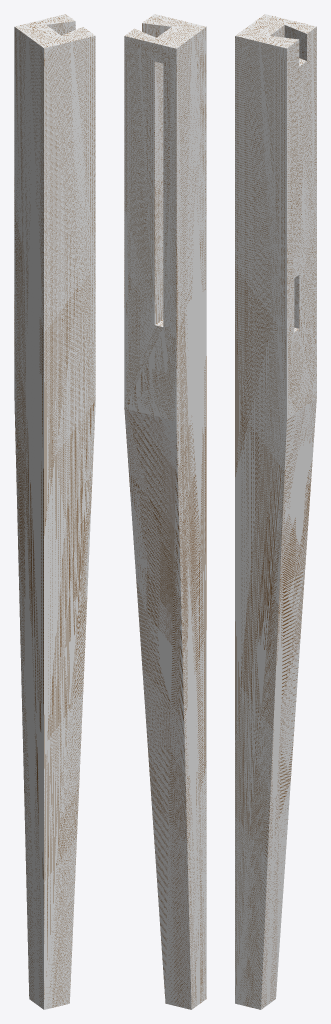
The model's file is original-14.obj.
The picture shows the model from 3 angles, left to right: view 1: azimuth 30°, elevation 25°; view 2: azimuth 150°, elevation 25°; view 3: azimuth 330°, elevation 25°; orthographic projection.
Parts seen in each view (by area): view 1: Left_Front_Leg/Front_Leg/mesh11/mesh11-geometry#mesh11-geometry; view 2: Left_Front_Leg/Front_Leg/mesh11/mesh11-geometry#mesh11-geometry; view 3: Left_Front_Leg/Front_Leg/mesh11/mesh11-geometry#mesh11-geometry.
Boxes of the visible parts, x1,y1,x2,y2 form: Left_Front_Leg/Front_Leg/mesh11/mesh11-geometry#mesh11-geometry: (14,14,95,1009); Left_Front_Leg/Front_Leg/mesh11/mesh11-geometry#mesh11-geometry: (124,14,206,1009); Left_Front_Leg/Front_Leg/mesh11/mesh11-geometry#mesh11-geometry: (235,14,316,1009).
Bounding box in the file's own units: 0.0601 × 1.07 × 0.0601.
